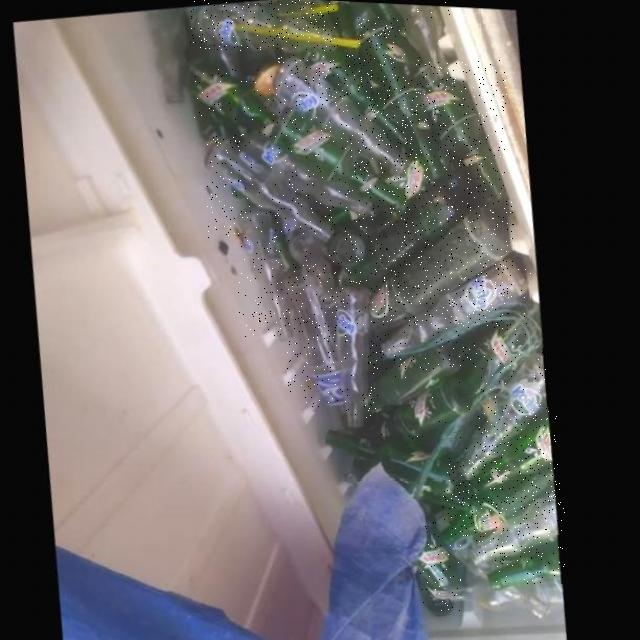glass: (372, 200, 514, 326), (345, 171, 485, 287), (273, 55, 411, 171), (385, 252, 531, 354), (273, 103, 411, 209), (358, 17, 447, 177), (207, 136, 336, 238), (414, 61, 507, 196), (243, 126, 375, 212), (465, 348, 551, 473), (287, 252, 349, 412), (442, 459, 560, 541), (239, 201, 299, 337), (368, 337, 465, 421), (191, 0, 338, 51), (379, 370, 478, 439), (478, 407, 557, 487), (479, 486, 565, 558), (340, 281, 376, 423), (194, 68, 279, 122), (396, 0, 450, 78), (420, 522, 461, 612), (495, 536, 567, 584)
